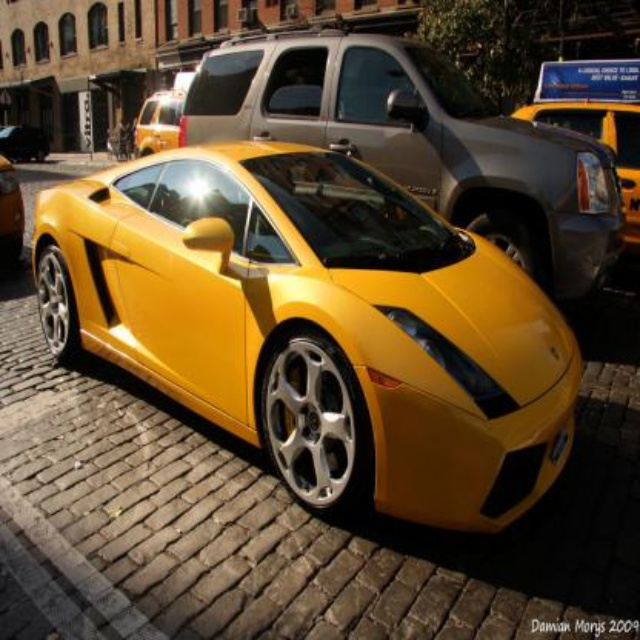Car: (32, 142, 583, 536), (178, 13, 627, 316), (509, 93, 638, 249), (129, 88, 185, 162), (0, 153, 25, 268), (0, 126, 52, 167)
